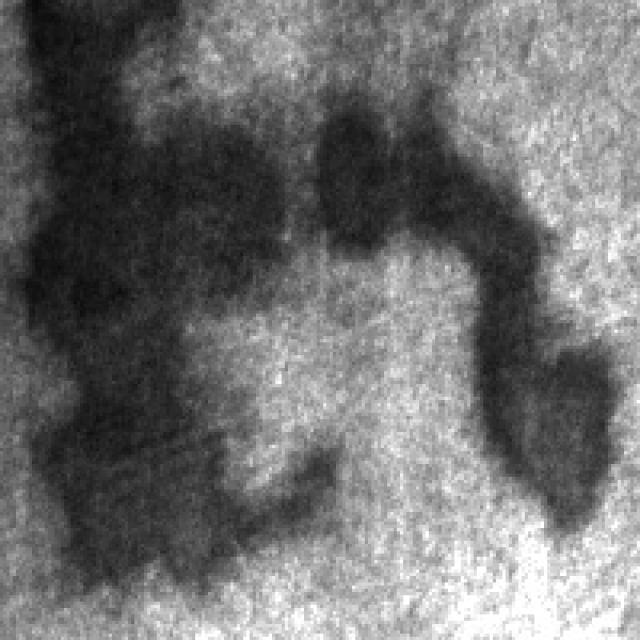patches: (6, 0, 271, 566), (304, 86, 618, 532)
